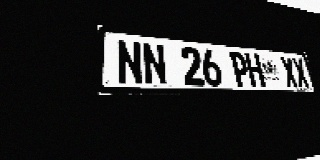2: (180, 46, 205, 86)
6: (200, 48, 223, 86)
H: (244, 53, 266, 87)
N: (116, 39, 144, 85), (141, 42, 168, 85)
P: (229, 51, 251, 87)
X: (279, 56, 299, 88), (291, 58, 310, 88)
